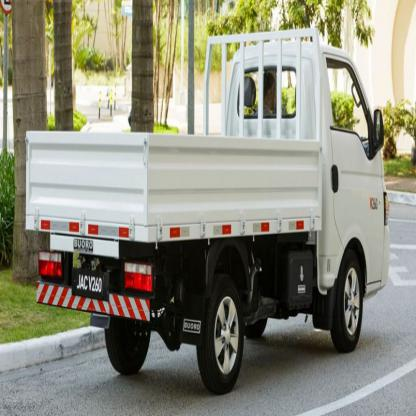normal-truck: (15, 20, 396, 393)
